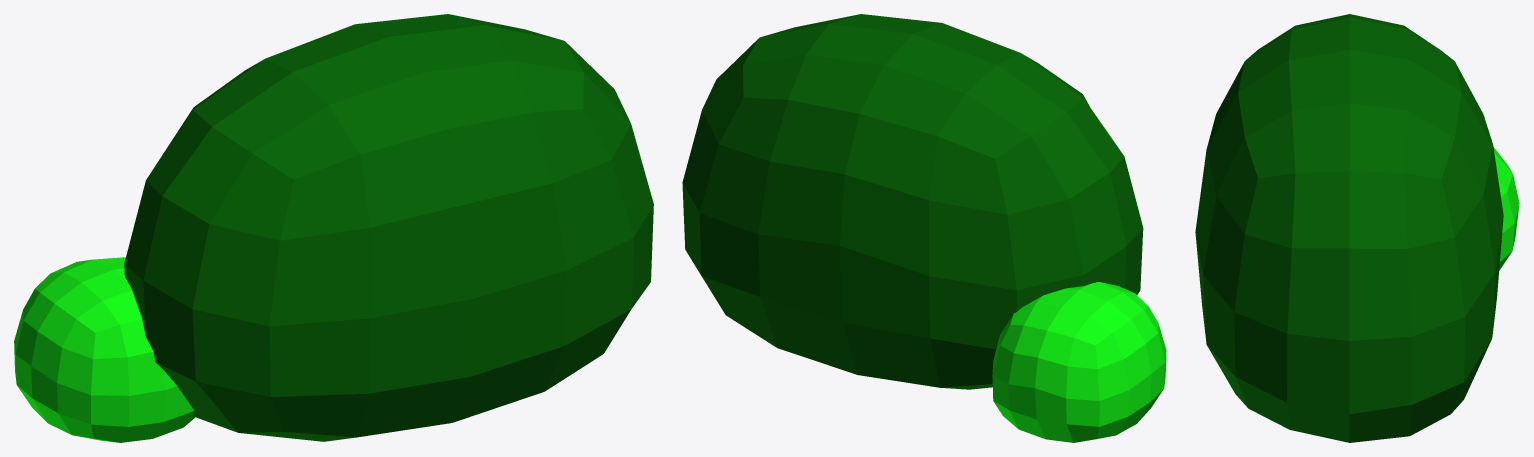
File: GrassSix.glb
3 renders of one model, left to right at view 1: azimuth 30°, elevation 25°; view 2: azimuth 150°, elevation 25°; view 3: azimuth 270°, elevation 25°, orthographic. The views are drawn at different scales.
Parts seen in each view (by area): view 1: GrassSix; view 2: GrassSix; view 3: GrassSix.
Part boxes in pixels (x1,y1,x2,y2): GrassSix: (14, 14, 653, 442); GrassSix: (682, 14, 1166, 442); GrassSix: (1195, 14, 1519, 442).
Size of the model in its own units: 25.92 by 16.17 by 14.17.
